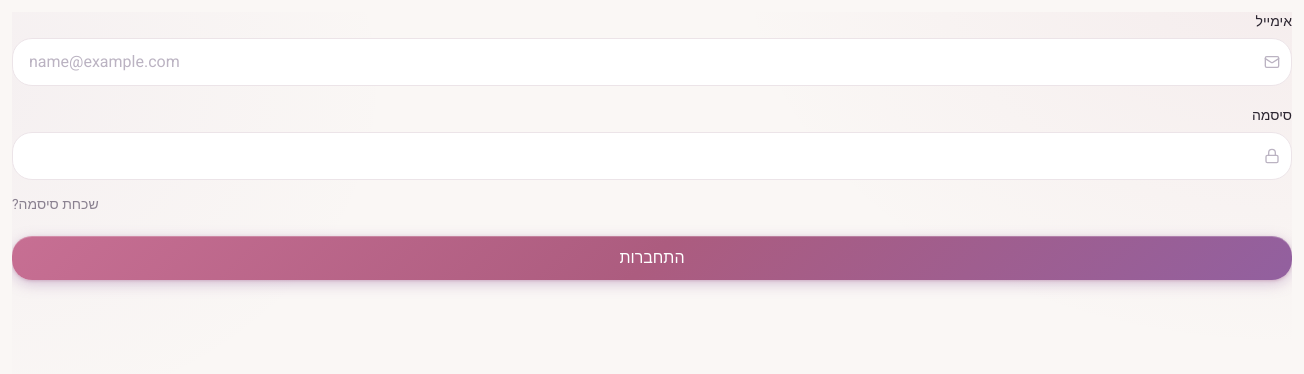
LoginForm › renders the generic form error returned by the action and focuses email
This screenshot has width=1304, height=374.
Click the button "התחברות": (652, 258) [12, 236, 1292, 280]
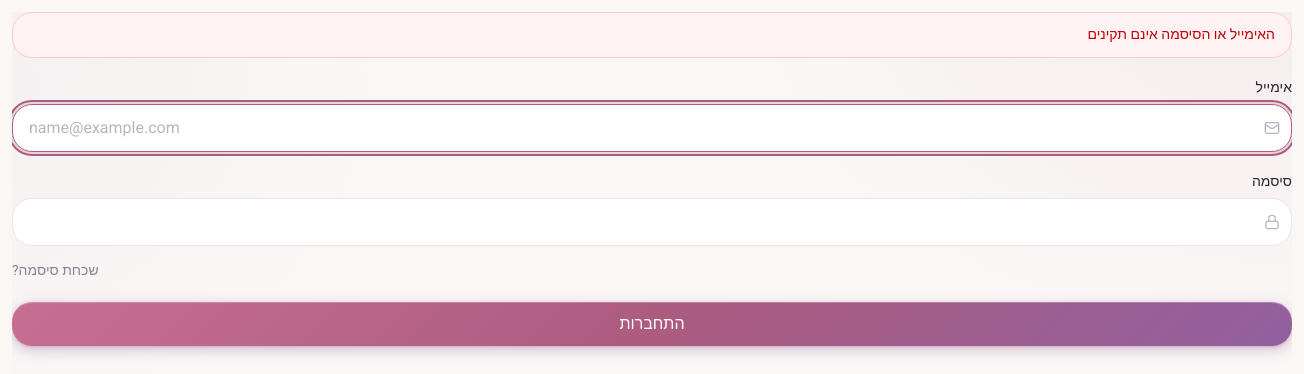
Result: the text "האימייל או הסיסמה אינם תקינים" is shown at [12, 12, 1292, 58]
